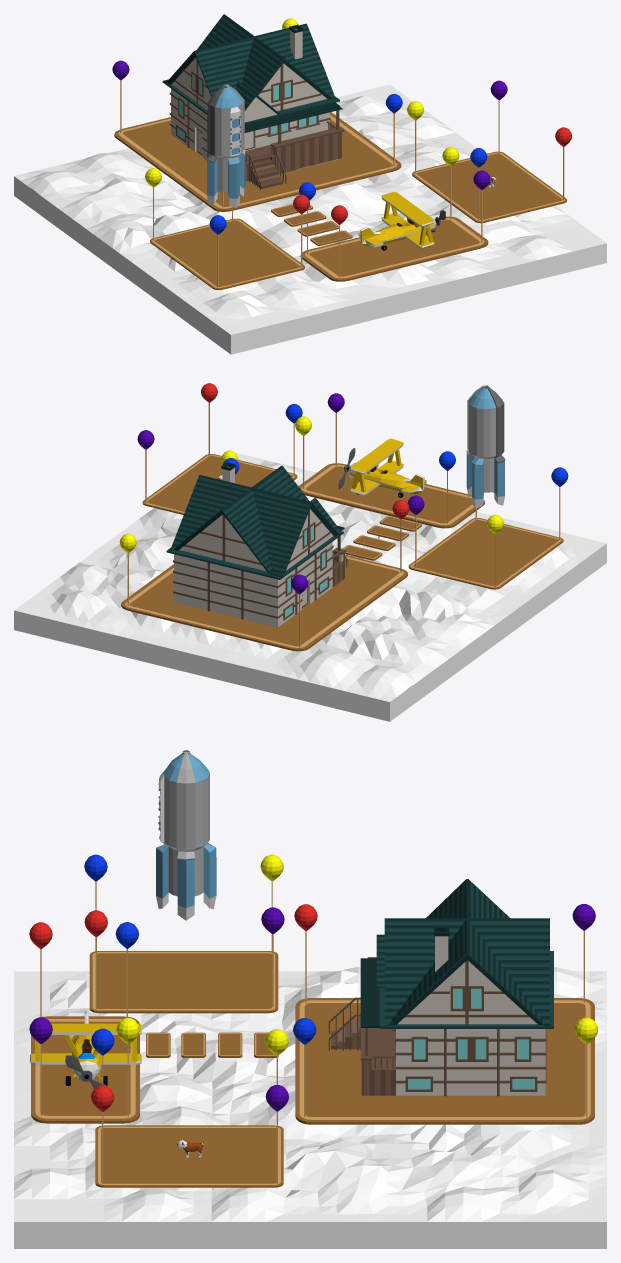
3 views of the same model, one above another, from view 1: azimuth 30°, elevation 25°; view 2: azimuth 150°, elevation 25°; view 3: azimuth 270°, elevation 25° (orthographic). The views are drawn at different scales.
Visible parts, largest first — view 1: Cube.013, Cube.793, OBJRANDOM_ROCKETSHIP, VEHICLES_AIRPLANE; view 2: Cube.013, Cube.793, OBJRANDOM_ROCKETSHIP, VEHICLES_AIRPLANE; view 3: Cube.013, Cube.793, OBJRANDOM_ROCKETSHIP, VEHICLES_AIRPLANE.
Boxes of the visible parts, bbox=[...] form: Cube.013: bbox=[14, 18, 606, 354]; Cube.793: bbox=[162, 14, 344, 190]; OBJRANDOM_ROCKETSHIP: bbox=[206, 84, 245, 207]; VEHICLES_AIRPLANE: bbox=[358, 191, 445, 250]; Cube.013: bbox=[14, 383, 606, 721]; Cube.793: bbox=[166, 462, 347, 627]; OBJRANDOM_ROCKETSHIP: bbox=[466, 385, 505, 508]; VEHICLES_AIRPLANE: bbox=[338, 438, 426, 497]; Cube.013: bbox=[14, 854, 606, 1248]; Cube.793: bbox=[328, 879, 553, 1096]; OBJRANDOM_ROCKETSHIP: bbox=[156, 750, 216, 920]; VEHICLES_AIRPLANE: bbox=[30, 1011, 141, 1089].
Bounding box in the file's own units: 4000 × 2224 × 4000.
Materials: 37 (3 with a texture image).
